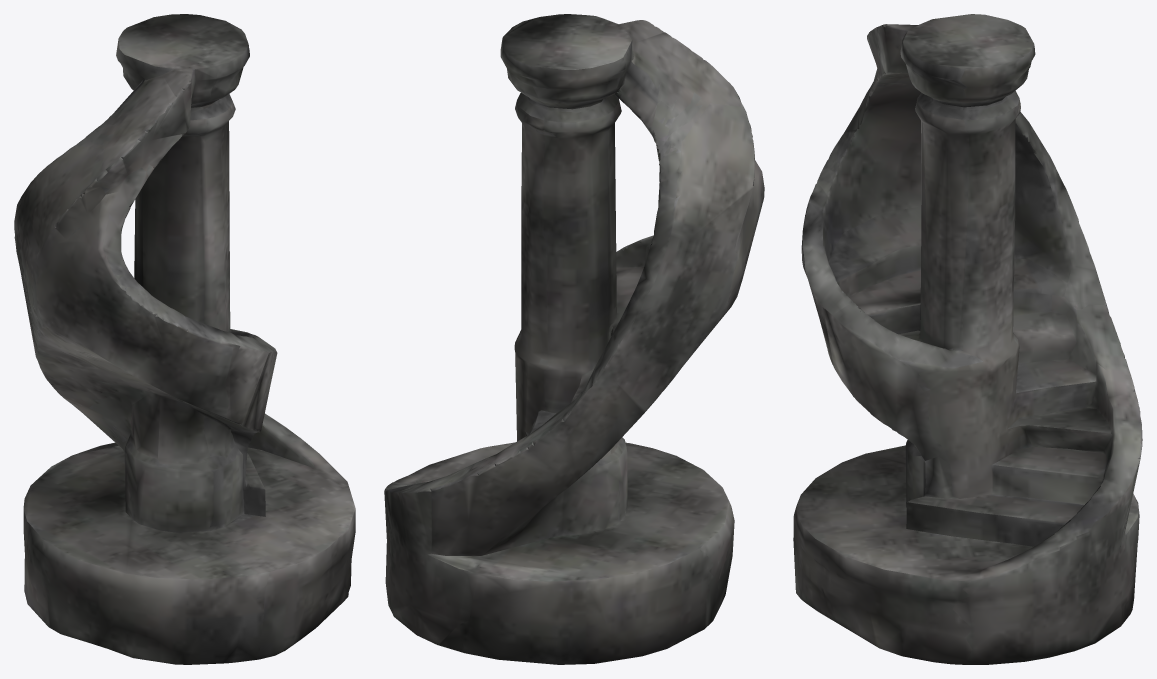
File: ancient-granite-spiral-staircase-v002.glb
The picture shows the model from 3 angles, left to right: view 1: azimuth 30°, elevation 25°; view 2: azimuth 150°, elevation 25°; view 3: azimuth 270°, elevation 25°; orthographic projection.
Visible parts, largest first — view 1: ancient-granite-spiral-staircase; view 2: ancient-granite-spiral-staircase; view 3: ancient-granite-spiral-staircase.
Boxes of the visible parts, x1,y1,x2,y2 form: ancient-granite-spiral-staircase: (14, 14, 355, 664); ancient-granite-spiral-staircase: (384, 14, 764, 664); ancient-granite-spiral-staircase: (793, 14, 1142, 664).
Bounding box in the file's own units: 1.73 × 2.95 × 1.69.
1 material, 1 textured.
